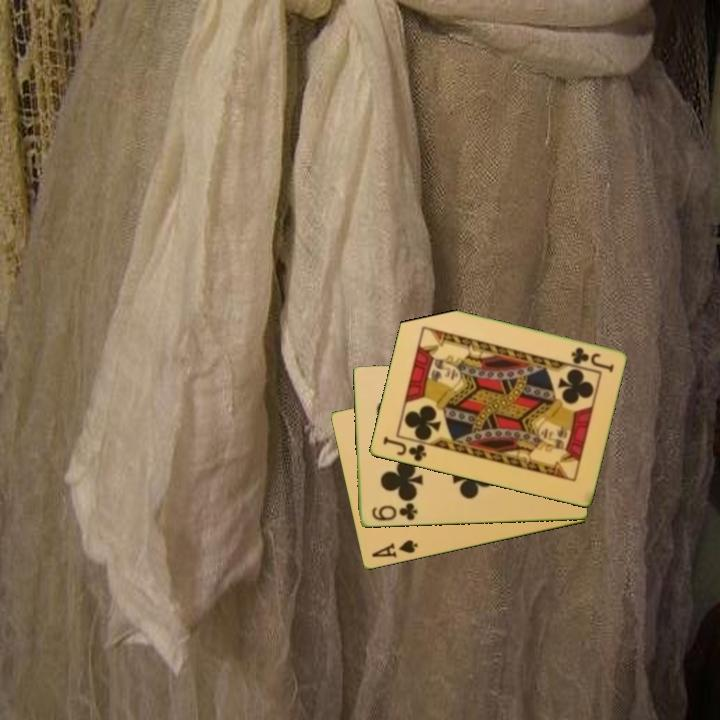6c: (368, 500, 420, 524)
As: (368, 537, 420, 561)
Jc: (379, 433, 429, 465), (567, 344, 616, 375)
